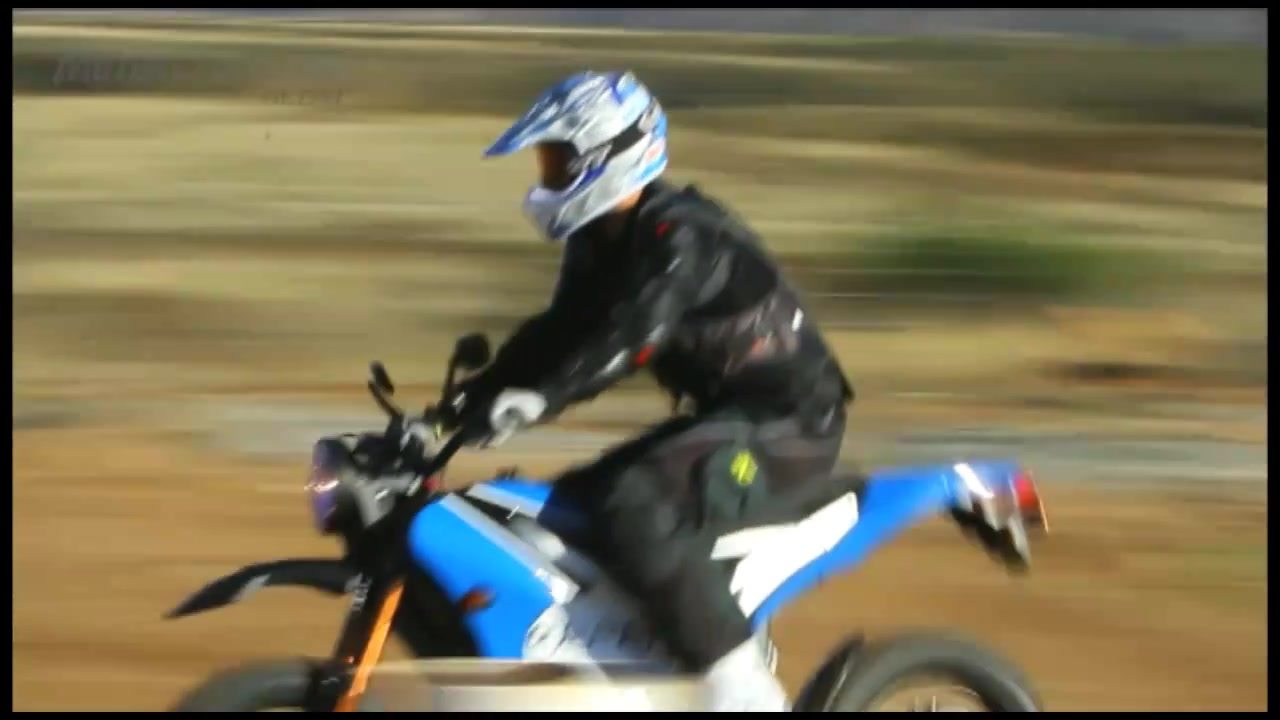motorbike: (154, 331, 1058, 718)
